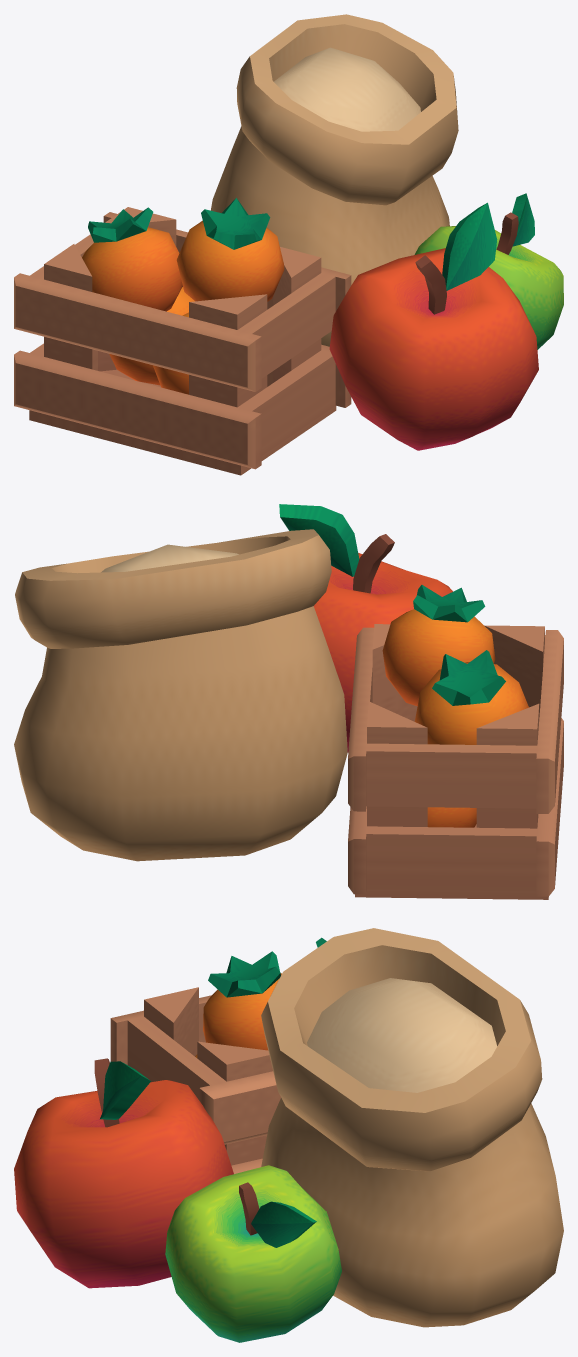
The model's file is Food_Pile_Small.gltf.
3 renders of one model, top to bottom at view 1: azimuth 30°, elevation 25°; view 2: azimuth 150°, elevation 25°; view 3: azimuth 270°, elevation 25°, orthographic. The views are drawn at different scales.
Parts seen in each view (by area): view 1: Food_Pile_Small; view 2: Food_Pile_Small; view 3: Food_Pile_Small.
Part boxes in pixels (box(x1,y1,x2,y2)): Food_Pile_Small: box(14, 14, 563, 475); Food_Pile_Small: box(14, 504, 563, 899); Food_Pile_Small: box(14, 928, 563, 1342).
Size of the model in its own units: 1.09 by 0.6124 by 0.9766.
Materials: 1 (1 with a texture image).
